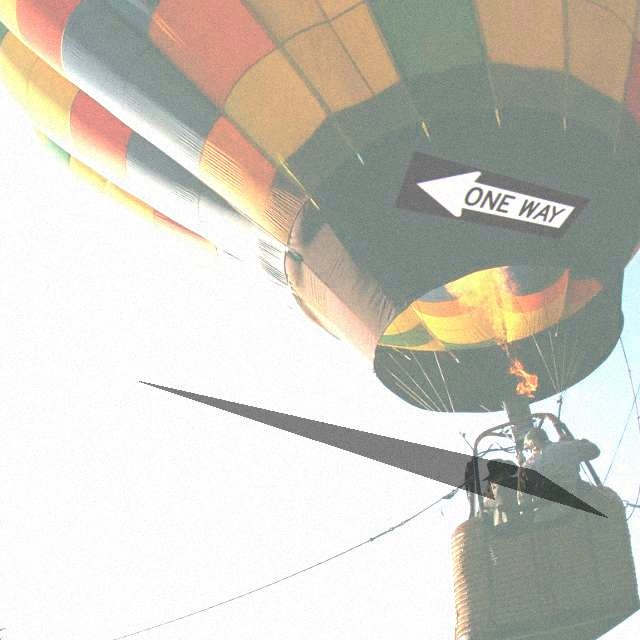ONE_WAY_ left: (393, 150, 591, 239)
